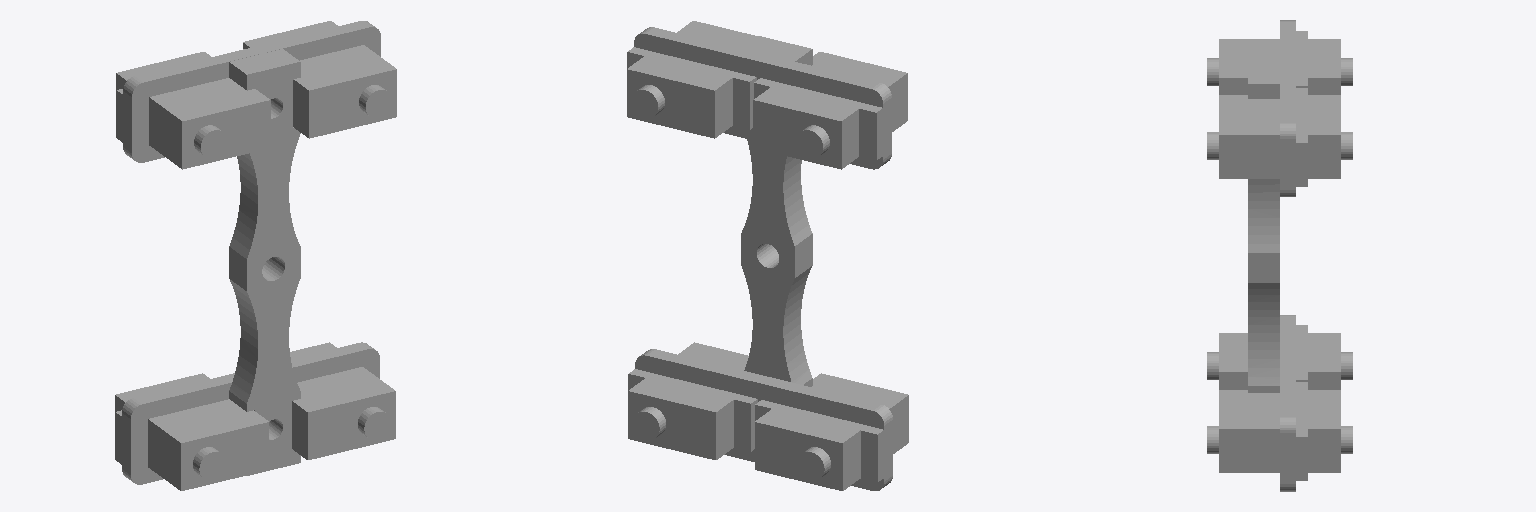
URDF robot description (robotArm_ver7):
<?xml version="1.0" ?>
<!-- =================================================================================== -->
<!-- |    This document was autogenerated by xacro from urdf\robotArm_ver7.xacro.temp  | -->
<!-- |    EDITING THIS FILE BY HAND IS NOT RECOMMENDED                                 | -->
<!-- =================================================================================== -->
<robot xmlns:xacro="http://www.ros.org/wiki/xacro" name="robotArm_ver7">
  <material name="silver">
    <color rgba="0.700 0.700 0.700 1.000"/>
  </material>
  <transmission name="Revolute 0_tran">
    <type>transmission_interface/SimpleTransmission</type>
    <joint name="Revolute 0">
      <hardwareInterface>hardware_interface/EffortJointInterface</hardwareInterface>
    </joint>
    <actuator name="Revolute 0_actr">
      <hardwareInterface>hardware_interface/EffortJointInterface</hardwareInterface>
      <mechanicalReduction>1</mechanicalReduction>
    </actuator>
  </transmission>
  <transmission name="Revolute 6_tran">
    <type>transmission_interface/SimpleTransmission</type>
    <joint name="Revolute 6">
      <hardwareInterface>hardware_interface/EffortJointInterface</hardwareInterface>
    </joint>
    <actuator name="Revolute 6_actr">
      <hardwareInterface>hardware_interface/EffortJointInterface</hardwareInterface>
      <mechanicalReduction>1</mechanicalReduction>
    </actuator>
  </transmission>
  <transmission name="Revolute 7_tran">
    <type>transmission_interface/SimpleTransmission</type>
    <joint name="Revolute 7">
      <hardwareInterface>hardware_interface/EffortJointInterface</hardwareInterface>
    </joint>
    <actuator name="Revolute 7_actr">
      <hardwareInterface>hardware_interface/EffortJointInterface</hardwareInterface>
      <mechanicalReduction>1</mechanicalReduction>
    </actuator>
  </transmission>
  <transmission name="Revolute 8_tran">
    <type>transmission_interface/SimpleTransmission</type>
    <joint name="Revolute 8">
      <hardwareInterface>hardware_interface/EffortJointInterface</hardwareInterface>
    </joint>
    <actuator name="Revolute 8_actr">
      <hardwareInterface>hardware_interface/EffortJointInterface</hardwareInterface>
      <mechanicalReduction>1</mechanicalReduction>
    </actuator>
  </transmission>
  <transmission name="Revolute 9_tran">
    <type>transmission_interface/SimpleTransmission</type>
    <joint name="Revolute 9">
      <hardwareInterface>hardware_interface/EffortJointInterface</hardwareInterface>
    </joint>
    <actuator name="Revolute 9_actr">
      <hardwareInterface>hardware_interface/EffortJointInterface</hardwareInterface>
      <mechanicalReduction>1</mechanicalReduction>
    </actuator>
  </transmission>
  <transmission name="Revolute 3_tran">
    <type>transmission_interface/SimpleTransmission</type>
    <joint name="Revolute 3">
      <hardwareInterface>hardware_interface/EffortJointInterface</hardwareInterface>
    </joint>
    <actuator name="Revolute 3_actr">
      <hardwareInterface>hardware_interface/EffortJointInterface</hardwareInterface>
      <mechanicalReduction>1</mechanicalReduction>
    </actuator>
  </transmission>
  <transmission name="Revolute 4_tran">
    <type>transmission_interface/SimpleTransmission</type>
    <joint name="Revolute 4">
      <hardwareInterface>hardware_interface/EffortJointInterface</hardwareInterface>
    </joint>
    <actuator name="Revolute 4_actr">
      <hardwareInterface>hardware_interface/EffortJointInterface</hardwareInterface>
      <mechanicalReduction>1</mechanicalReduction>
    </actuator>
  </transmission>
  <transmission name="Revolute 5_tran">
    <type>transmission_interface/SimpleTransmission</type>
    <joint name="Revolute 5">
      <hardwareInterface>hardware_interface/EffortJointInterface</hardwareInterface>
    </joint>
    <actuator name="Revolute 5_actr">
      <hardwareInterface>hardware_interface/EffortJointInterface</hardwareInterface>
      <mechanicalReduction>1</mechanicalReduction>
    </actuator>
  </transmission>
  <transmission name="Revolute 19_tran">
    <type>transmission_interface/SimpleTransmission</type>
    <joint name="Revolute 19">
      <hardwareInterface>hardware_interface/EffortJointInterface</hardwareInterface>
    </joint>
    <actuator name="Revolute 19_actr">
      <hardwareInterface>hardware_interface/EffortJointInterface</hardwareInterface>
      <mechanicalReduction>1</mechanicalReduction>
    </actuator>
  </transmission>
  <transmission name="Revolute 21_tran">
    <type>transmission_interface/SimpleTransmission</type>
    <joint name="Revolute 21">
      <hardwareInterface>hardware_interface/EffortJointInterface</hardwareInterface>
    </joint>
    <actuator name="Revolute 21_actr">
      <hardwareInterface>hardware_interface/EffortJointInterface</hardwareInterface>
      <mechanicalReduction>1</mechanicalReduction>
    </actuator>
  </transmission>
  <!-- omitted .gazebo include -->
  <link name="base_link">
    <inertial>
      <origin xyz="2.989375374043843 1.1395251464843752 0.07612872006595212" rpy="0 0 0"/>
      <mass value="1.6067306789990348"/>
      <inertia ixx="0.003521" iyy="0.006468" izz="0.008802" ixy="0.0" iyz="0.0" ixz="0.0"/>
    </inertial>
    <visual>
      <origin xyz="0 0 0" rpy="0 0 0"/>
      <geometry>
        <mesh filename="package://robotArm_ver7_description/meshes/base_link.stl" scale="0.001 0.001 0.001"/>
      </geometry>
      <material name="silver"/>
    </visual>
    <collision>
      <origin xyz="0 0 0" rpy="0 0 0"/>
      <geometry>
        <mesh filename="package://robotArm_ver7_description/meshes/base_link.stl" scale="0.001 0.001 0.001"/>
      </geometry>
    </collision>
  </link>
  <link name="link_1_1">
    <inertial>
      <origin xyz="2.079701451052074e-07 1.4648437618447474e-07 0.04484473463010137" rpy="0 0 0"/>
      <mass value="0.8724221516717876"/>
      <inertia ixx="0.000529" iyy="0.000636" izz="0.000308" ixy="-0.0" iyz="-0.0" ixz="-0.0"/>
    </inertial>
    <visual>
      <origin xyz="-2.989375 -1.139525 -0.122186" rpy="0 0 0"/>
      <geometry>
        <mesh filename="package://robotArm_ver7_description/meshes/link_1_1.stl" scale="0.001 0.001 0.001"/>
      </geometry>
      <material name="silver"/>
    </visual>
    <collision>
      <origin xyz="-2.989375 -1.139525 -0.122186" rpy="0 0 0"/>
      <geometry>
        <mesh filename="package://robotArm_ver7_description/meshes/link_1_1.stl" scale="0.001 0.001 0.001"/>
      </geometry>
    </collision>
  </link>
  <link name="grap_1_1">
    <inertial>
      <origin xyz="-0.0011124634317667415 -0.032767957693791594 0.005980632077344561" rpy="0 0 0"/>
      <mass value="0.040626783640930614"/>
      <inertia ixx="2.7e-05" iyy="6e-06" izz="2.3e-05" ixy="-2e-06" iyz="7e-06" ixz="1e-06"/>
    </inertial>
    <visual>
      <origin xyz="-3.014333 -1.131222 -0.778853" rpy="0 0 0"/>
      <geometry>
        <mesh filename="package://robotArm_ver7_description/meshes/grap_1_1.stl" scale="0.001 0.001 0.001"/>
      </geometry>
      <material name="silver"/>
    </visual>
    <collision>
      <origin xyz="-3.014333 -1.131222 -0.778853" rpy="0 0 0"/>
      <geometry>
        <mesh filename="package://robotArm_ver7_description/meshes/grap_1_1.stl" scale="0.001 0.001 0.001"/>
      </geometry>
    </collision>
  </link>
  <link name="grap_2_1">
    <inertial>
      <origin xyz="-0.0011124634317360993 0.03276825066262434 0.0059806320774223876" rpy="0 0 0"/>
      <mass value="0.040626783640931044"/>
      <inertia ixx="2.7e-05" iyy="6e-06" izz="2.3e-05" ixy="2e-06" iyz="-7e-06" ixz="1e-06"/>
    </inertial>
    <visual>
      <origin xyz="-3.014333 -1.156222 -0.778853" rpy="0 0 0"/>
      <geometry>
        <mesh filename="package://robotArm_ver7_description/meshes/grap_2_1.stl" scale="0.001 0.001 0.001"/>
      </geometry>
      <material name="silver"/>
    </visual>
    <collision>
      <origin xyz="-3.014333 -1.156222 -0.778853" rpy="0 0 0"/>
      <geometry>
        <mesh filename="package://robotArm_ver7_description/meshes/grap_2_1.stl" scale="0.001 0.001 0.001"/>
      </geometry>
    </collision>
  </link>
  <link name="grap1_2_1">
    <inertial>
      <origin xyz="0.0011127473107239716 -0.032767957693790706 0.005980632077423831" rpy="0 0 0"/>
      <mass value="0.04062678364093068"/>
      <inertia ixx="2.7e-05" iyy="6e-06" izz="2.3e-05" ixy="2e-06" iyz="7e-06" ixz="-1e-06"/>
    </inertial>
    <visual>
      <origin xyz="-2.964333 -1.131222 -0.778853" rpy="0 0 0"/>
      <geometry>
        <mesh filename="package://robotArm_ver7_description/meshes/grap1_2_1.stl" scale="0.001 0.001 0.001"/>
      </geometry>
      <material name="silver"/>
    </visual>
    <collision>
      <origin xyz="-2.964333 -1.131222 -0.778853" rpy="0 0 0"/>
      <geometry>
        <mesh filename="package://robotArm_ver7_description/meshes/grap1_2_1.stl" scale="0.001 0.001 0.001"/>
      </geometry>
    </collision>
  </link>
  <link name="grap2_2_1">
    <inertial>
      <origin xyz="0.001112747310715978 0.032768250662611464 0.005980632077452697" rpy="0 0 0"/>
      <mass value="0.04062678364093034"/>
      <inertia ixx="2.7e-05" iyy="6e-06" izz="2.3e-05" ixy="-2e-06" iyz="-7e-06" ixz="-1e-06"/>
    </inertial>
    <visual>
      <origin xyz="-2.964333 -1.156222 -0.778853" rpy="0 0 0"/>
      <geometry>
        <mesh filename="package://robotArm_ver7_description/meshes/grap2_2_1.stl" scale="0.001 0.001 0.001"/>
      </geometry>
      <material name="silver"/>
    </visual>
    <collision>
      <origin xyz="-2.964333 -1.156222 -0.778853" rpy="0 0 0"/>
      <geometry>
        <mesh filename="package://robotArm_ver7_description/meshes/grap2_2_1.stl" scale="0.001 0.001 0.001"/>
      </geometry>
    </collision>
  </link>
  <link name="Wrist1_1">
    <inertial>
      <origin xyz="3.7404379060745896e-07 -0.02000177002189374 0.04507703257348883" rpy="0 0 0"/>
      <mass value="0.544858404723334"/>
      <inertia ixx="0.000822" iyy="0.000329" izz="0.000562" ixy="0.0" iyz="0.000113" ixz="-0.0"/>
    </inertial>
    <visual>
      <origin xyz="-2.989375 -1.142023 -0.64097" rpy="0 0 0"/>
      <geometry>
        <mesh filename="package://robotArm_ver7_description/meshes/Wrist1_1.stl" scale="0.001 0.001 0.001"/>
      </geometry>
      <material name="silver"/>
    </visual>
    <collision>
      <origin xyz="-2.989375 -1.142023 -0.64097" rpy="0 0 0"/>
      <geometry>
        <mesh filename="package://robotArm_ver7_description/meshes/Wrist1_1.stl" scale="0.001 0.001 0.001"/>
      </geometry>
    </collision>
  </link>
  <link name="Wrist2_1">
    <inertial>
      <origin xyz="0.010085452867119482 0.021157588279396622 0.006057094515764971" rpy="0 0 0"/>
      <mass value="0.3986034277980482"/>
      <inertia ixx="9.1e-05" iyy="0.000131" izz="0.000113" ixy="-6e-06" iyz="-4e-06" ixz="-2e-06"/>
    </inertial>
    <visual>
      <origin xyz="-2.989375 -1.121022 -0.70742" rpy="0 0 0"/>
      <geometry>
        <mesh filename="package://robotArm_ver7_description/meshes/Wrist2_1.stl" scale="0.001 0.001 0.001"/>
      </geometry>
      <material name="silver"/>
    </visual>
    <collision>
      <origin xyz="-2.989375 -1.121022 -0.70742" rpy="0 0 0"/>
      <geometry>
        <mesh filename="package://robotArm_ver7_description/meshes/Wrist2_1.stl" scale="0.001 0.001 0.001"/>
      </geometry>
    </collision>
  </link>
  <link name="link_4_1">
    <inertial>
      <origin xyz="1.4193951924923454e-07 1.464844152643252e-07 0.01816842213440839" rpy="0 0 0"/>
      <mass value="0.1836674229836166"/>
      <inertia ixx="7.1e-05" iyy="0.000103" izz="0.0001" ixy="-0.0" iyz="-0.0" ixz="0.0"/>
    </inertial>
    <visual>
      <origin xyz="-2.989333 -1.143722 -0.736653" rpy="0 0 0"/>
      <geometry>
        <mesh filename="package://robotArm_ver7_description/meshes/link_4_1.stl" scale="0.001 0.001 0.001"/>
      </geometry>
      <material name="silver"/>
    </visual>
    <collision>
      <origin xyz="-2.989333 -1.143722 -0.736653" rpy="0 0 0"/>
      <geometry>
        <mesh filename="package://robotArm_ver7_description/meshes/link_4_1.stl" scale="0.001 0.001 0.001"/>
      </geometry>
    </collision>
  </link>
  <link name="link_2_1">
    <inertial>
      <origin xyz="2.930768165931852e-07 1.4648438195763447e-07 0.13199352594951722" rpy="0 0 0"/>
      <mass value="1.7894494256516804"/>
      <inertia ixx="0.007559" iyy="0.007762" izz="0.000473" ixy="0.0" iyz="0.0" ixz="0.0"/>
    </inertial>
    <visual>
      <origin xyz="-2.989375 -1.139525 -0.192528" rpy="0 0 0"/>
      <geometry>
        <mesh filename="package://robotArm_ver7_description/meshes/link_2_1.stl" scale="0.001 0.001 0.001"/>
      </geometry>
      <material name="silver"/>
    </visual>
    <collision>
      <origin xyz="-2.989375 -1.139525 -0.192528" rpy="0 0 0"/>
      <geometry>
        <mesh filename="package://robotArm_ver7_description/meshes/link_2_1.stl" scale="0.001 0.001 0.001"/>
      </geometry>
    </collision>
  </link>
  <link name="link_3_1">
    <inertial>
      <origin xyz="3.740437874988345e-07 -0.008179960596720992 0.14907072470751842" rpy="0 0 0"/>
      <mass value="2.3011672222568587"/>
      <inertia ixx="0.010731" iyy="0.010238" izz="0.001122" ixy="0.0" iyz="0.001076" ixz="0.0"/>
    </inertial>
    <visual>
      <origin xyz="-2.989375 -1.139525 -0.40687" rpy="0 0 0"/>
      <geometry>
        <mesh filename="package://robotArm_ver7_description/meshes/link_3_1.stl" scale="0.001 0.001 0.001"/>
      </geometry>
      <material name="silver"/>
    </visual>
    <collision>
      <origin xyz="-2.989375 -1.139525 -0.40687" rpy="0 0 0"/>
      <geometry>
        <mesh filename="package://robotArm_ver7_description/meshes/link_3_1.stl" scale="0.001 0.001 0.001"/>
      </geometry>
    </collision>
  </link>
  <joint name="Revolute 0" type="revolute">
    <origin xyz="2.989375 1.139525 0.122186" rpy="0 0 0"/>
    <parent link="base_link"/>
    <child link="link_1_1"/>
    <axis xyz="0.0 0.0 1.0"/>
    <limit upper="1.570796" lower="-1.570796" effort="100" velocity="100"/>
  </joint>
  <joint name="Revolute 6" type="revolute">
    <origin xyz="0.025 -0.0125 0.0422" rpy="0 0 0"/>
    <parent link="link_4_1"/>
    <child link="grap_1_1"/>
    <axis xyz="1.0 0.0 0.0"/>
    <limit upper="6.283185" lower="0.0" effort="100" velocity="100"/>
  </joint>
  <joint name="Revolute 7" type="continuous">
    <origin xyz="0.025 0.0125 0.0422" rpy="0 0 0"/>
    <parent link="link_4_1"/>
    <child link="grap_2_1"/>
    <axis xyz="1.0 0.0 0.0"/>
  </joint>
  <joint name="Revolute 8" type="continuous">
    <origin xyz="-0.025 -0.0125 0.0422" rpy="0 0 0"/>
    <parent link="link_4_1"/>
    <child link="grap1_2_1"/>
    <axis xyz="-1.0 -0.0 -0.0"/>
  </joint>
  <joint name="Revolute 9" type="continuous">
    <origin xyz="-0.025 0.0125 0.0422" rpy="0 0 0"/>
    <parent link="link_4_1"/>
    <child link="grap2_2_1"/>
    <axis xyz="-1.0 -0.0 -0.0"/>
  </joint>
  <joint name="Revolute 3" type="revolute">
    <origin xyz="0.0 0.002498 0.2341" rpy="0 0 0"/>
    <parent link="link_3_1"/>
    <child link="Wrist1_1"/>
    <axis xyz="-0.0 0.0 1.0"/>
    <limit upper="3.141593" lower="0.0" effort="100" velocity="100"/>
  </joint>
  <joint name="Revolute 4" type="revolute">
    <origin xyz="0.0 -0.021001 0.06645" rpy="0 0 0"/>
    <parent link="Wrist1_1"/>
    <child link="Wrist2_1"/>
    <axis xyz="0.0 1.0 -0.0"/>
    <limit upper="1.570796" lower="-1.570796" effort="100" velocity="100"/>
  </joint>
  <joint name="Revolute 5" type="revolute">
    <origin xyz="-4.2e-05 0.0227 0.029233" rpy="0 0 0"/>
    <parent link="Wrist2_1"/>
    <child link="link_4_1"/>
    <axis xyz="-0.0 0.0 1.0"/>
    <limit upper="6.283185" lower="0.0" effort="100" velocity="100"/>
  </joint>
  <joint name="Revolute 19" type="revolute">
    <origin xyz="0.0 0.0 0.070342" rpy="0 0 0"/>
    <parent link="link_1_1"/>
    <child link="link_2_1"/>
    <axis xyz="-1.0 0.0 -0.0"/>
    <limit upper="1.396263" lower="-1.570796" effort="100" velocity="100"/>
  </joint>
  <joint name="Revolute 21" type="revolute">
    <origin xyz="0.0 0.0 0.214342" rpy="0 0 0"/>
    <parent link="link_2_1"/>
    <child link="link_3_1"/>
    <axis xyz="-1.0 -0.0 -0.0"/>
    <limit upper="1.570796" lower="0.0" effort="100" velocity="100"/>
  </joint>
</robot>

--- Render facts (derived) ---
Views: 3 orthographic renders of the robot side by side, from view 1: azimuth 30°, elevation 25°; view 2: azimuth 150°, elevation 25°; view 3: azimuth 270°, elevation 25°.
Model robotArm_ver7 with 11 links and 10 joints (7 revolute, 3 continuous), rooted at base_link, posed all joints at 0.
Visible links, largest first — view 1: base_link; view 2: base_link; view 3: base_link.
Link boxes in pixels (box(x1,y1,x2,y2)): base_link: box(115, 21, 396, 490); base_link: box(627, 21, 908, 490); base_link: box(1207, 20, 1352, 491).
Size in the robot's own frame: 0.0653 by 0.036 by 0.1001 metres.
Meshes: 11 distinct files referenced, 1 mesh visuals loaded (1 binary STL); not drawn: 10 (reference not matched to a file when rendering).